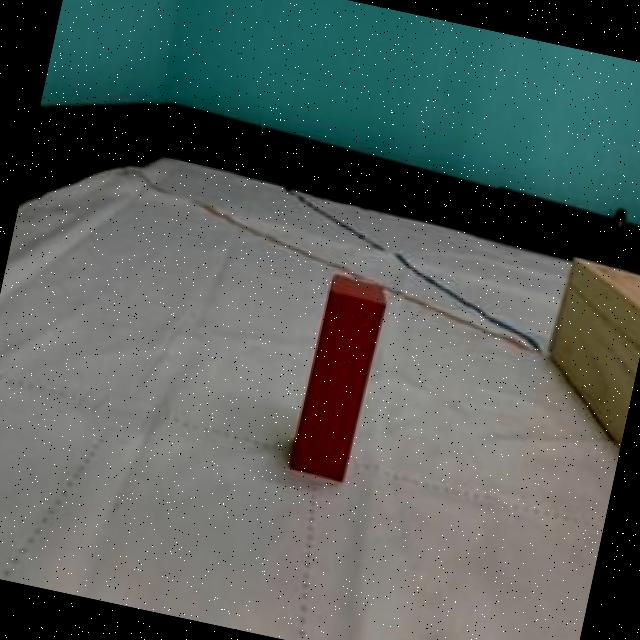redbox: (289, 272, 387, 479)
